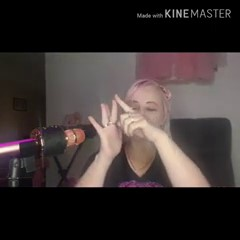I: (83, 93, 161, 162)
